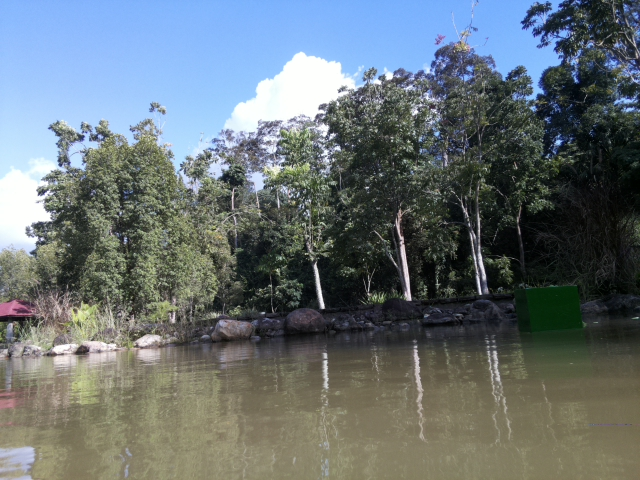obstacle: (513, 284, 584, 335)
